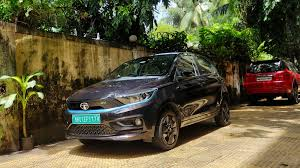Tiago: (63, 47, 232, 152)
